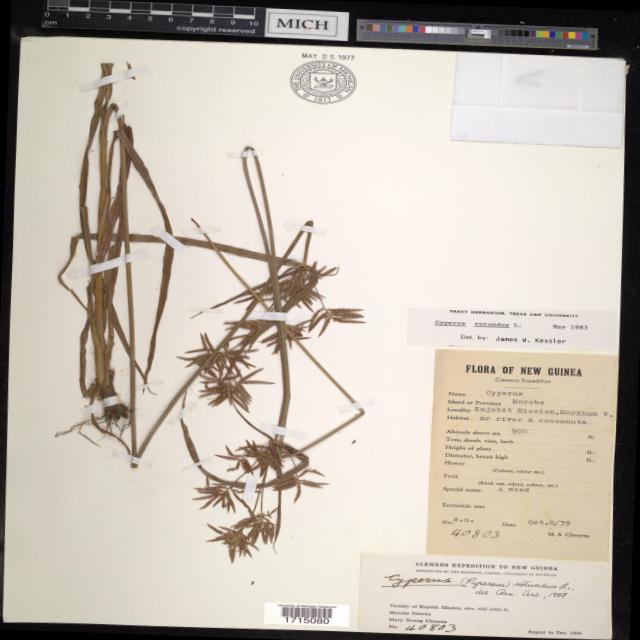cyperus: (166, 260, 374, 407), (176, 428, 344, 572)
